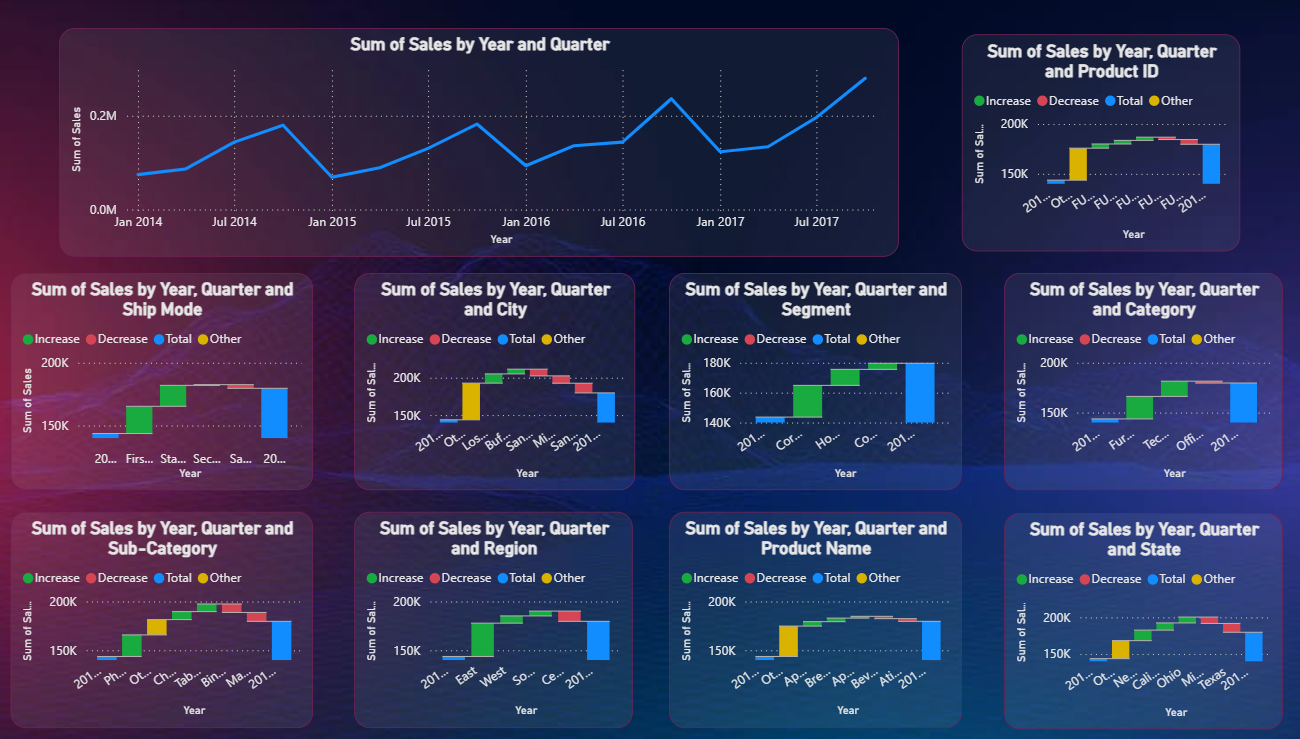

The page's visual inventory and layout, read from the dashboard file:
{"tool":"powerbi","page":{"name":"Page 2","canvas":[1280,720],"ordinal":1},"visuals":[{"type":"lineChart","fields":{"Category":["Orders.Order Date.Variation.Date Hierarchy.Year","Orders.Order Date.Variation.Date Hierarchy.Quarter","Orders.Order Date.Variation.Date Hierarchy.Month","Orders.Order Date.Variation.Date Hierarchy.Day"],"Y":["Sum(Orders.Sales)"]},"box":[59.1,29,810.7,220.8],"z":0},{"type":"waterfallChart","fields":{"Category":["Orders.Order Date.Variation.Date Hierarchy.Year","Orders.Order Date.Variation.Date Hierarchy.Quarter"],"Breakdown":["Orders.City"],"Y":["Sum(Orders.Sales)"]},"box":[343.8,265.4,271.4,209.9],"z":1000},{"type":"waterfallChart","fields":{"Category":["Orders.Order Date.Variation.Date Hierarchy.Year","Orders.Order Date.Variation.Date Hierarchy.Quarter"],"Breakdown":["Orders.Ship Mode"],"Y":["Sum(Orders.Sales)"]},"box":[12.1,265.4,292,209.9],"z":2000},{"type":"waterfallChart","fields":{"Category":["Orders.Order Date.Variation.Date Hierarchy.Year","Orders.Order Date.Variation.Date Hierarchy.Quarter"],"Breakdown":["Orders.Sub-Category"],"Y":["Sum(Orders.Sales)"]},"box":[12.1,495.8,292,208.7],"z":3000},{"type":"waterfallChart","fields":{"Category":["Orders.Order Date.Variation.Date Hierarchy.Year","Orders.Order Date.Variation.Date Hierarchy.Quarter"],"Breakdown":["Orders.Region"],"Y":["Sum(Orders.Sales)"]},"box":[343.8,495.8,269,208.7],"z":4000},{"type":"waterfallChart","fields":{"Category":["Orders.Order Date.Variation.Date Hierarchy.Year","Orders.Order Date.Variation.Date Hierarchy.Quarter"],"Breakdown":["Orders.Product ID"],"Y":["Sum(Orders.Sales)"]},"box":[930.2,35,269,209.9],"z":5000},{"type":"waterfallChart","fields":{"Category":["Orders.Order Date.Variation.Date Hierarchy.Year","Orders.Order Date.Variation.Date Hierarchy.Quarter"],"Breakdown":["Orders.Product Name"],"Y":["Sum(Orders.Sales)"]},"box":[647.9,495.8,282.3,208.7],"z":6000},{"type":"waterfallChart","fields":{"Category":["Orders.Order Date.Variation.Date Hierarchy.Year","Orders.Order Date.Variation.Date Hierarchy.Quarter"],"Breakdown":["Orders.State"],"Y":["Sum(Orders.Sales)"]},"box":[971.2,497.1,269,208.7],"z":7000},{"type":"waterfallChart","fields":{"Category":["Orders.Order Date.Variation.Date Hierarchy.Year","Orders.Order Date.Variation.Date Hierarchy.Quarter"],"Breakdown":["Orders.Segment"],"Y":["Sum(Orders.Sales)"]},"box":[647.9,265.4,282.3,209.9],"z":8000},{"type":"waterfallChart","fields":{"Category":["Orders.Order Date.Variation.Date Hierarchy.Year","Orders.Order Date.Variation.Date Hierarchy.Quarter"],"Breakdown":["Orders.Category"],"Y":["Sum(Orders.Sales)"]},"box":[971.2,265.4,269,209.9],"z":9000}]}

Visuals, with their boxes in screenshot pixels (x1, y1, x2, y2), scaled from the page's 1280x720 canvas onto the 1300x739 screenshot:
lineChart - Orders.Order Date.Variation.Date Hierarchy.Year x Orders.Order Date.Variation.Date Hierarchy.Quarter: bbox(60, 30, 883, 256)
waterfallChart - Orders.Order Date.Variation.Date Hierarchy.Year x Orders.Order Date.Variation.Date Hierarchy.Quarter: bbox(349, 272, 625, 488)
waterfallChart - Orders.Order Date.Variation.Date Hierarchy.Year x Orders.Order Date.Variation.Date Hierarchy.Quarter: bbox(12, 272, 309, 488)
waterfallChart - Orders.Order Date.Variation.Date Hierarchy.Year x Orders.Order Date.Variation.Date Hierarchy.Quarter: bbox(12, 509, 309, 723)
waterfallChart - Orders.Order Date.Variation.Date Hierarchy.Year x Orders.Order Date.Variation.Date Hierarchy.Quarter: bbox(349, 509, 622, 723)
waterfallChart - Orders.Order Date.Variation.Date Hierarchy.Year x Orders.Order Date.Variation.Date Hierarchy.Quarter: bbox(945, 36, 1218, 251)
waterfallChart - Orders.Order Date.Variation.Date Hierarchy.Year x Orders.Order Date.Variation.Date Hierarchy.Quarter: bbox(658, 509, 945, 723)
waterfallChart - Orders.Order Date.Variation.Date Hierarchy.Year x Orders.Order Date.Variation.Date Hierarchy.Quarter: bbox(986, 510, 1260, 724)
waterfallChart - Orders.Order Date.Variation.Date Hierarchy.Year x Orders.Order Date.Variation.Date Hierarchy.Quarter: bbox(658, 272, 945, 488)
waterfallChart - Orders.Order Date.Variation.Date Hierarchy.Year x Orders.Order Date.Variation.Date Hierarchy.Quarter: bbox(986, 272, 1260, 488)
